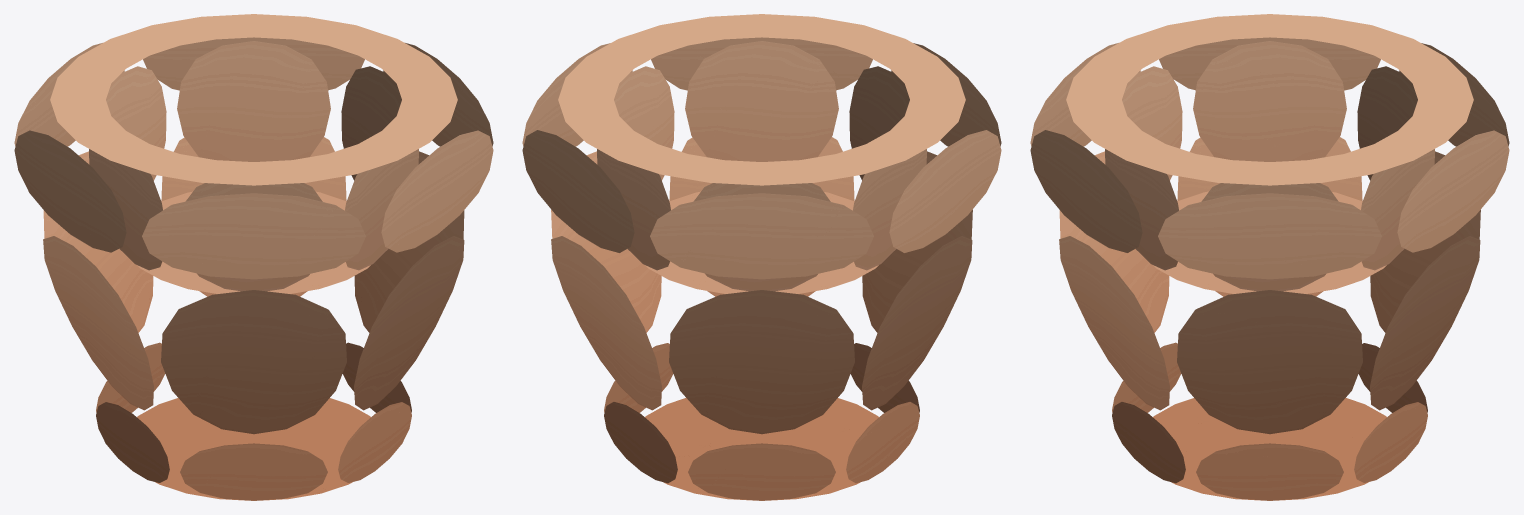
The model's file is ice-cream-cup.glb.
The picture shows the model from 3 angles, left to right: view 1: azimuth 30°, elevation 25°; view 2: azimuth 150°, elevation 25°; view 3: azimuth 270°, elevation 25°; orthographic projection.
Visible parts, largest first — view 1: ice-cream-cup; view 2: ice-cream-cup; view 3: ice-cream-cup.
Boxes of the visible parts, x1,y1,x2,y2 form: ice-cream-cup: [14, 14, 493, 500]; ice-cream-cup: [522, 14, 1001, 500]; ice-cream-cup: [1030, 14, 1509, 500].
Size of the model in its own units: 0.2011 by 0.1804 by 0.2273.
Materials: 1 (1 with a texture image).
